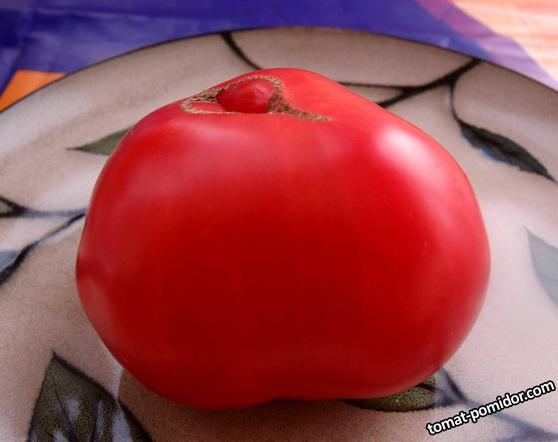tomato: (81, 72, 495, 399)
